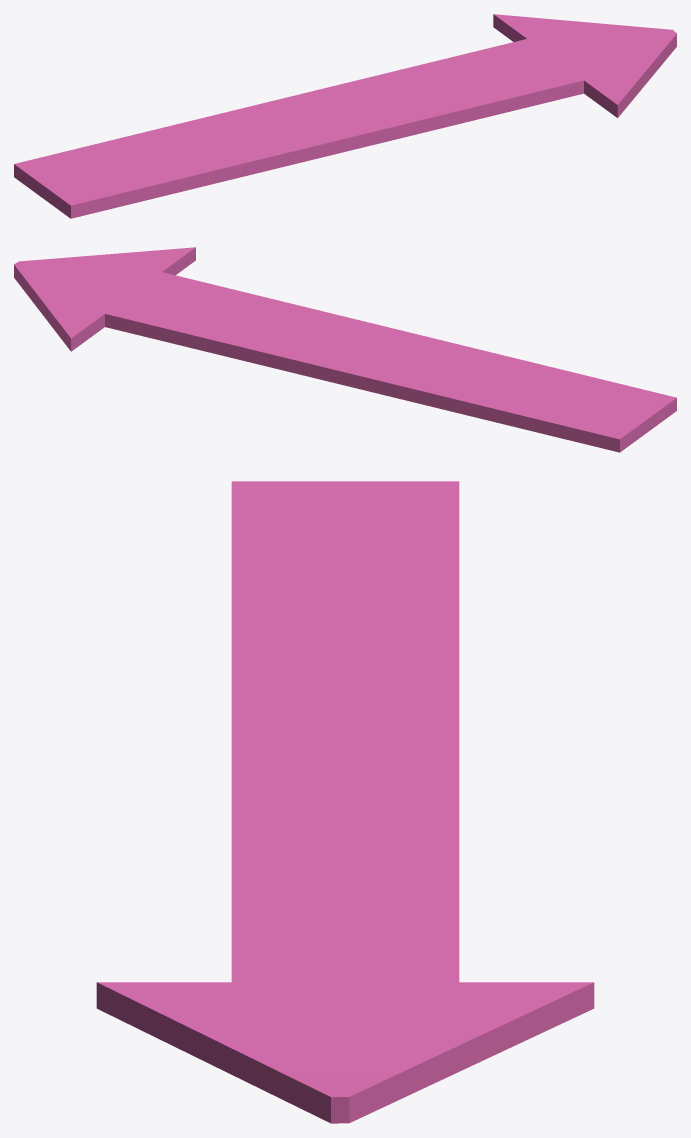
Rendered from jiantou.fbx.
3 views of the same model, one above another, from view 1: azimuth 30°, elevation 25°; view 2: azimuth 150°, elevation 25°; view 3: azimuth 270°, elevation 25° (orthographic). The views are drawn at different scales.
Visible parts, largest first — view 1: pCube13; view 2: pCube13; view 3: pCube13.
Boxes of the visible parts, left/top/right/bottom form: pCube13: left=14, top=14, right=676, bottom=218; pCube13: left=14, top=247, right=676, bottom=452; pCube13: left=96, top=481, right=594, bottom=1123.
Size of the model in its own units: 30.5 by 0.6221 by 10.4.
